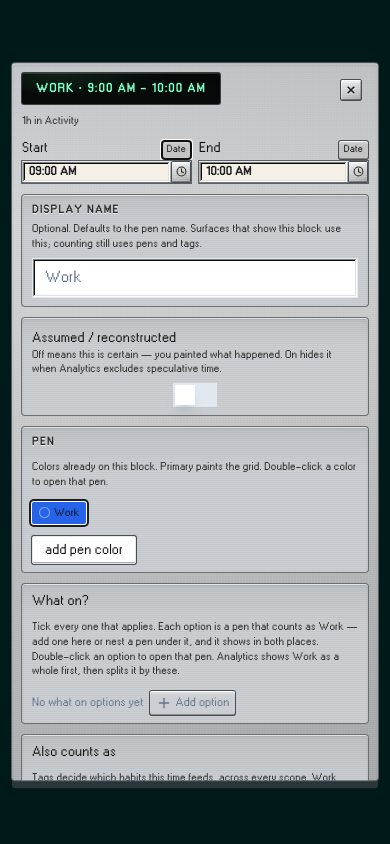
Test: EntryDialog › reveals the full pen library after add pen color
This screenshot has width=390, height=844.
Click the button "add pen color" at (84, 550), box top-left (32, 536), bottom-right (136, 564)
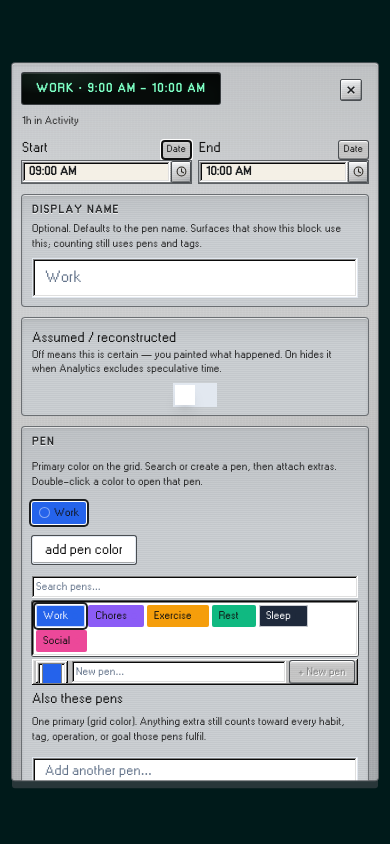
Check: the field labelled "Search pens" is shown, box top-left (32, 576), bottom-right (358, 598)
Check: the field named "New pen name" is shown, box top-left (72, 661), bottom-right (286, 683)
Check: the button "Rest" is shown, box top-left (212, 605), bottom-right (256, 627)
